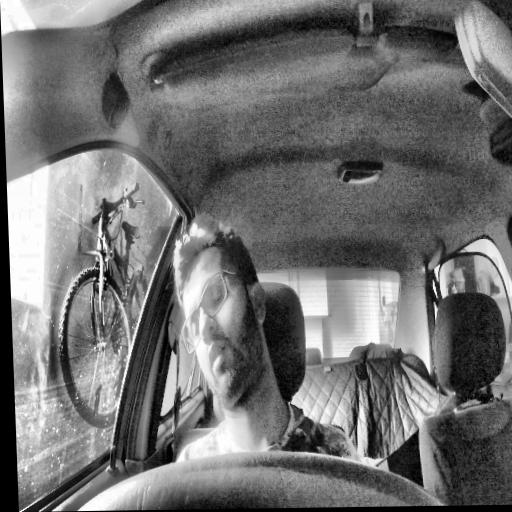drowsy: (170, 213, 272, 413)
